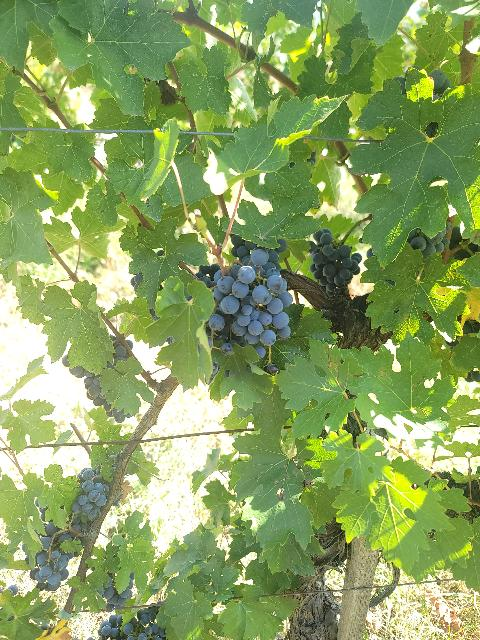grapes: (220, 246, 291, 346), (309, 229, 362, 296), (30, 521, 76, 591), (99, 604, 166, 640), (71, 468, 109, 522)
